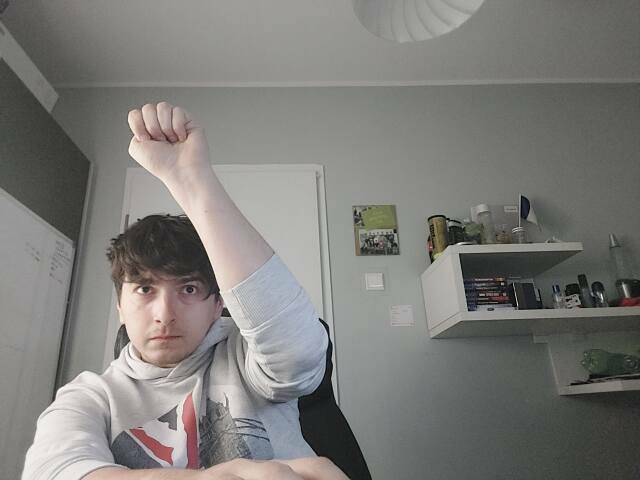yes: (125, 101, 213, 174)
